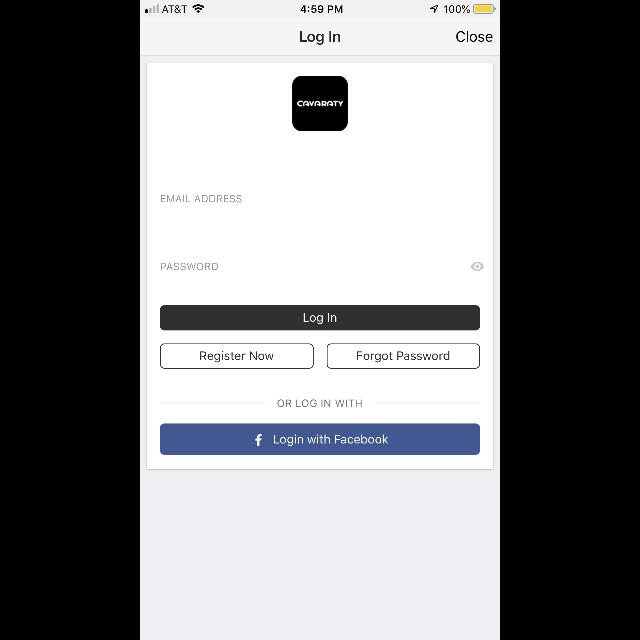icon: (471, 262, 484, 272)
image: (292, 75, 348, 131)
input: (160, 195, 486, 213), (160, 262, 486, 280)
text: (278, 399, 362, 407), (160, 195, 242, 203), (300, 32, 340, 44), (162, 263, 218, 271), (456, 32, 492, 42)
textbutton: (160, 424, 480, 454), (160, 306, 480, 330), (160, 344, 314, 368), (326, 344, 479, 368)
uppertaskbar: (140, 0, 500, 14)
